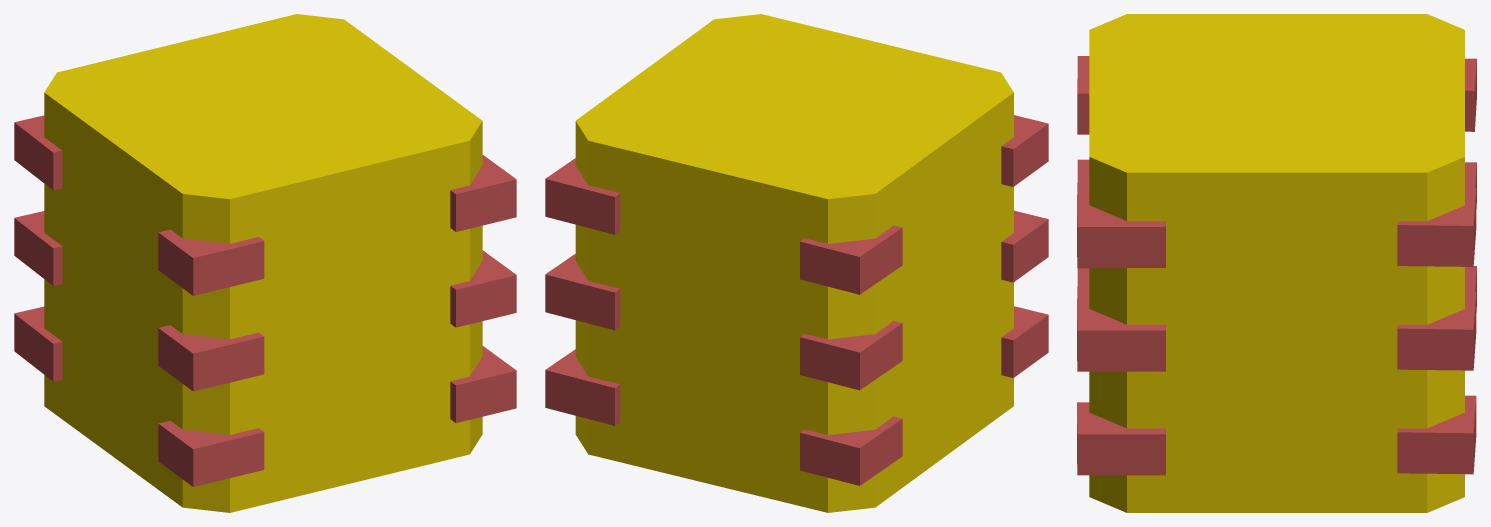
Rendered from Generic Center YellowRed.fbx.
3 views of the same model, side by side, from view 1: azimuth 30°, elevation 25°; view 2: azimuth 150°, elevation 25°; view 3: azimuth 270°, elevation 25° (orthographic). The views are drawn at different scales.
Parts seen in each view (by area): view 1: pCube16; view 2: pCube16; view 3: pCube16.
Part boxes in pixels (bbox=[...]): pCube16: bbox=[14, 14, 516, 512]; pCube16: bbox=[545, 14, 1048, 512]; pCube16: bbox=[1077, 14, 1476, 512].
Size of the model in its own units: 2.16 by 2 by 2.13.
